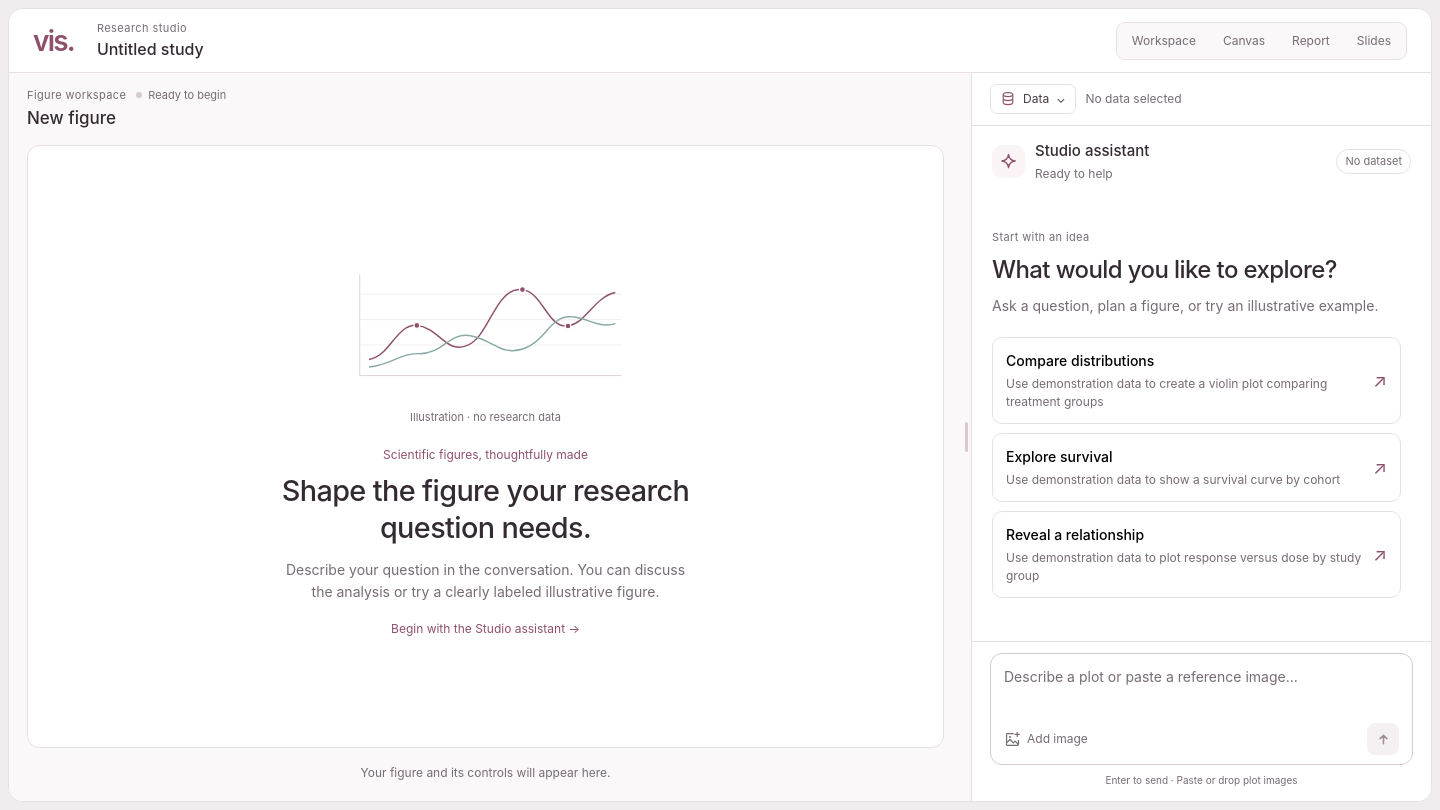
Test: recovers by polling when the cancel response is lost
The width and height of the screenshot is (1440, 810).
Type "Create a comparison plot" into the text box named "Describe the plot you want" at [1202, 690], box [1004, 666, 1399, 714]
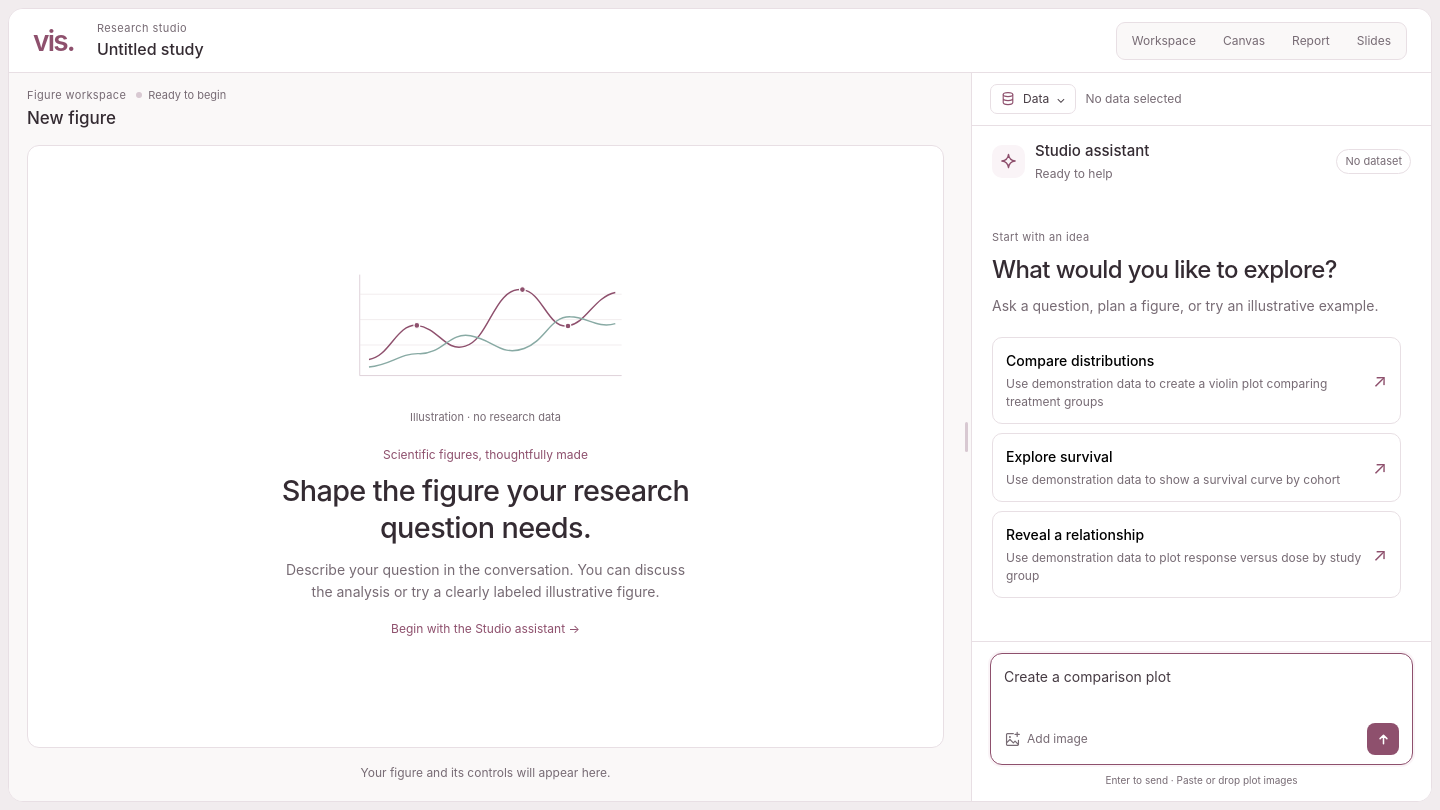
Click the button named "Send" at [1383, 739], box [1367, 723, 1399, 755]
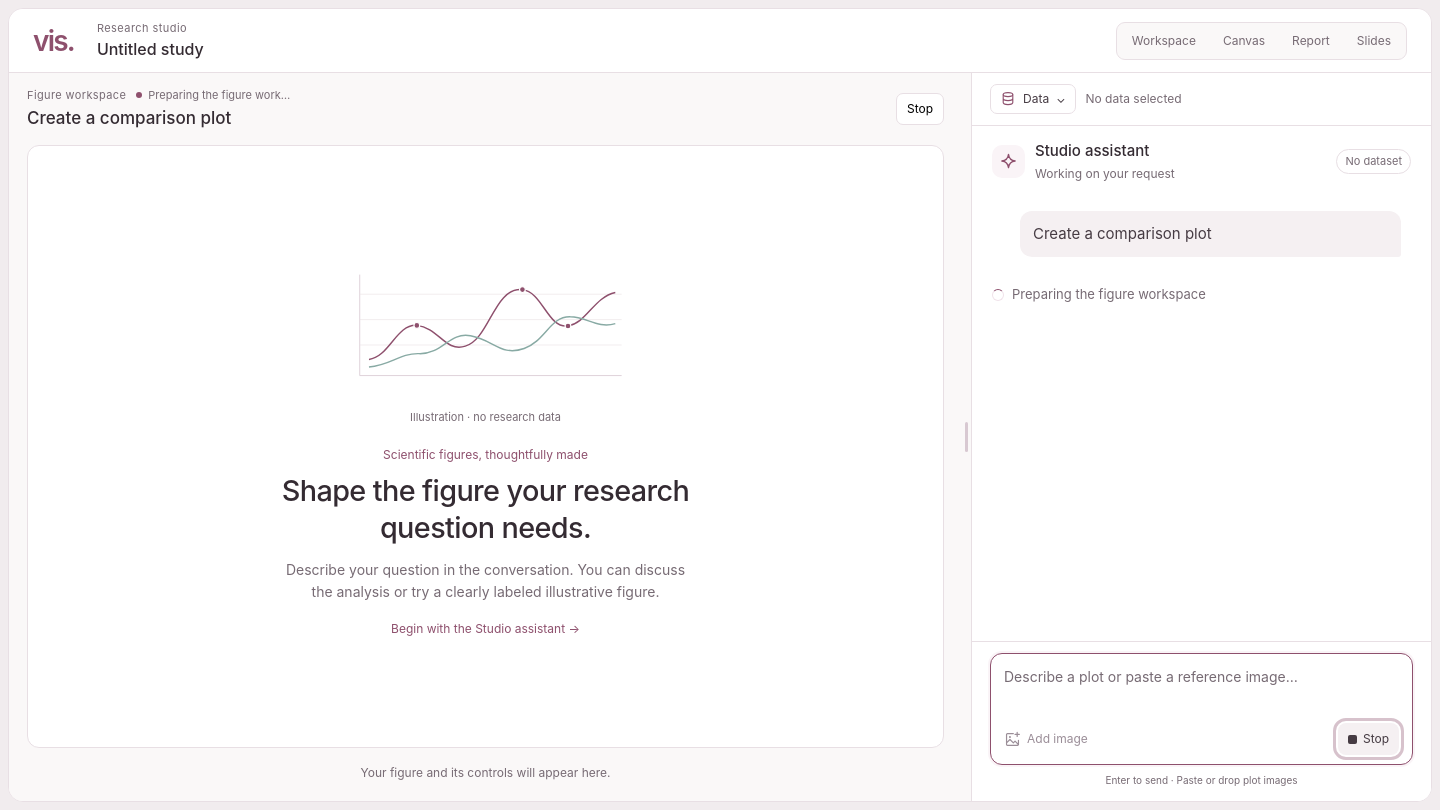
Click the 1st button "Stop" at [920, 109], box [896, 93, 944, 125]
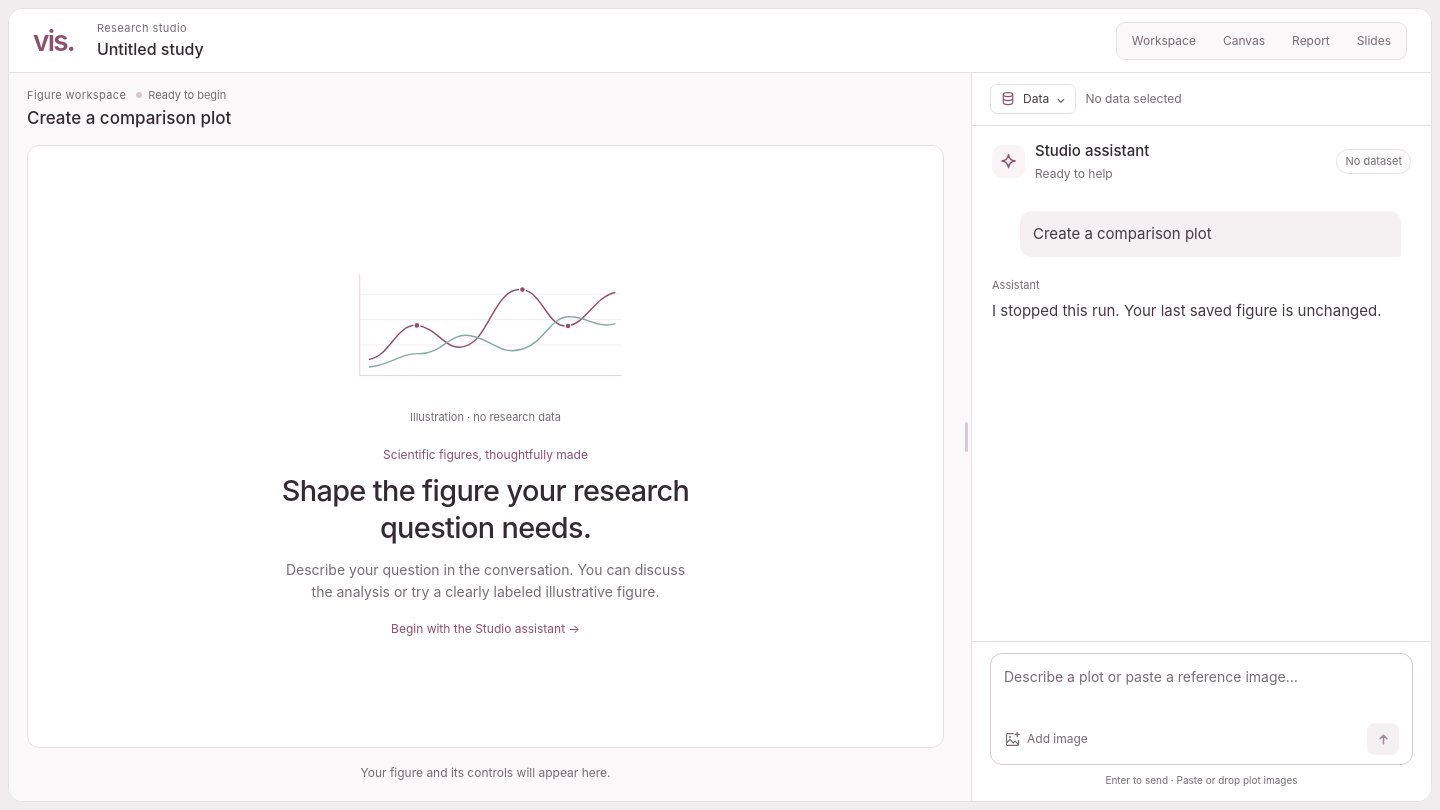
Expected: the text box named "Describe the plot you want" is enabled, [1004, 666, 1399, 714]
Expected: the text "I stopped this run. Your last saved figure is unchanged." is shown, [992, 299, 1401, 324]
